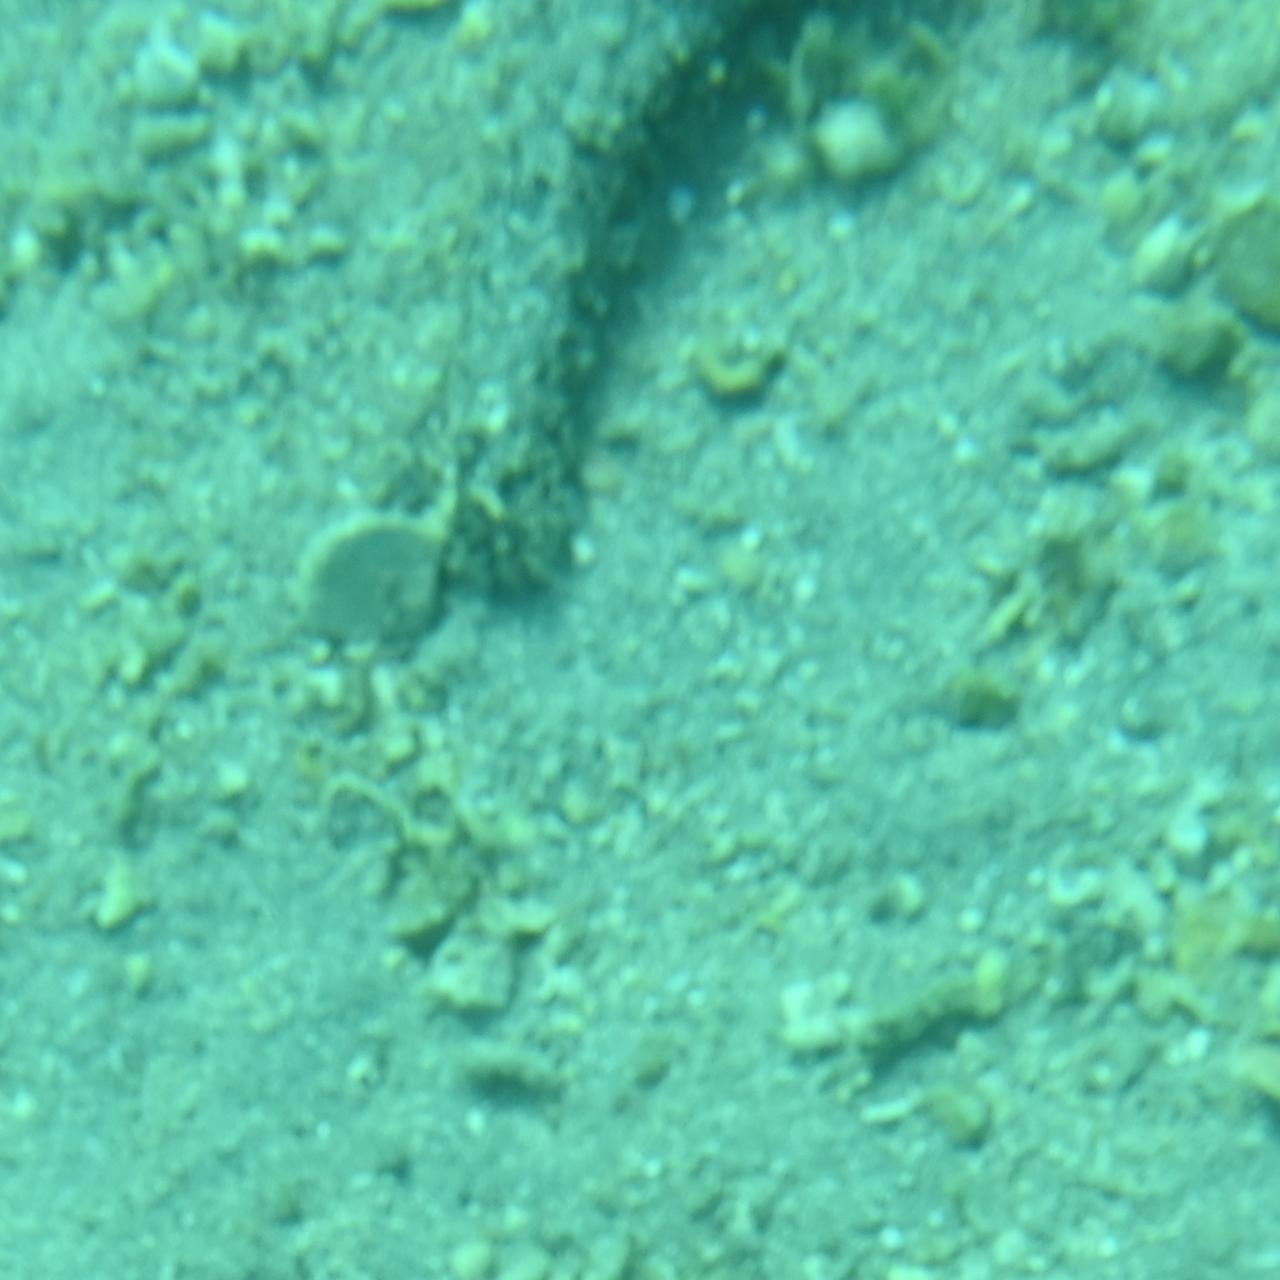Holothuria tubulosa: (446, 0, 834, 622)
